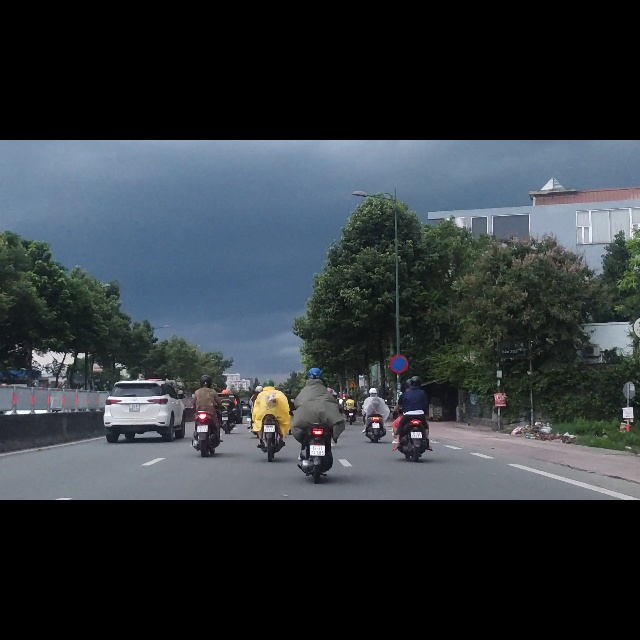bien_hieu_lenh: (389, 381, 408, 415), (348, 427, 357, 440)
